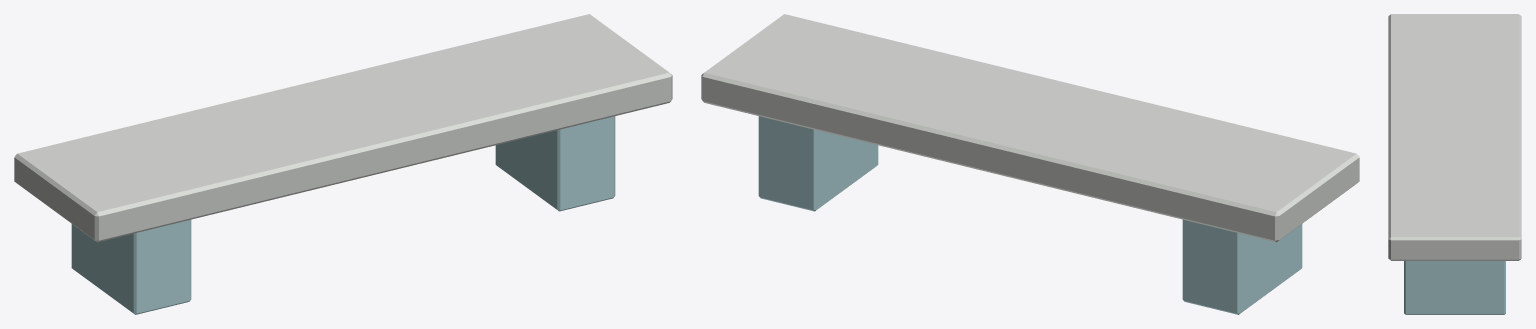
Rendered from facility_bench.glb.
The picture shows the model from 3 angles, left to right: view 1: azimuth 30°, elevation 25°; view 2: azimuth 150°, elevation 25°; view 3: azimuth 270°, elevation 25°; orthographic projection. The views are drawn at different scales.
Visible parts, largest first — view 1: VIS_formal_coping, VIS_formal_wainscot; view 2: VIS_formal_coping, VIS_formal_wainscot; view 3: VIS_formal_coping, VIS_formal_wainscot.
Part boxes in pixels (x1,y1,x2,y2): VIS_formal_coping: [14, 14, 672, 242]; VIS_formal_wainscot: [71, 116, 615, 314]; VIS_formal_coping: [701, 14, 1359, 242]; VIS_formal_wainscot: [758, 116, 1302, 314]; VIS_formal_coping: [1388, 14, 1521, 260]; VIS_formal_wainscot: [1404, 261, 1505, 314].
Size of what is drawn, in the model's own units: 2.4 by 0.48 by 0.6.
